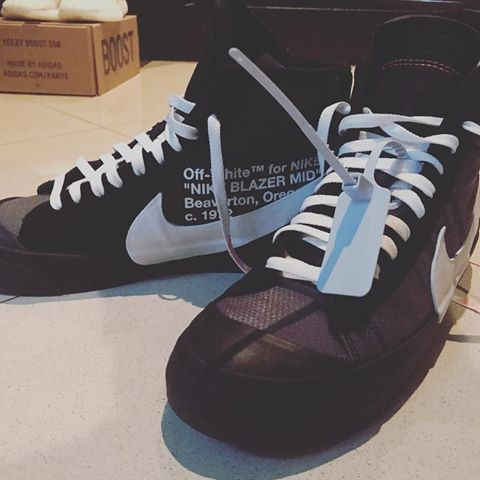Nike Blazer Grim Reaper: (161, 14, 480, 452), (2, 20, 364, 312)
